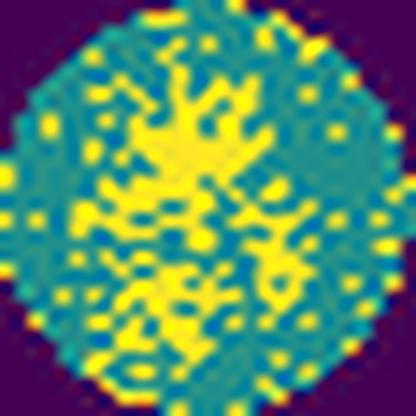Random: (61, 34, 334, 390)
